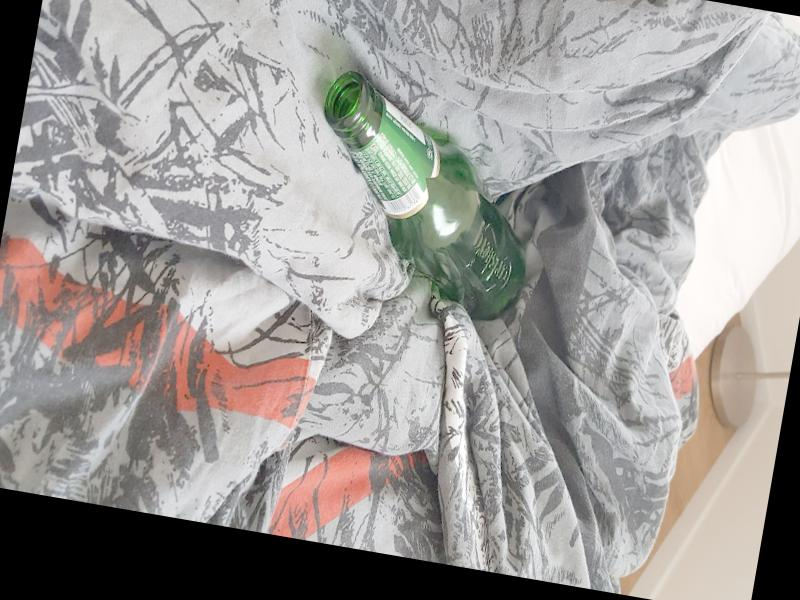Beer: (290, 71, 553, 325)
